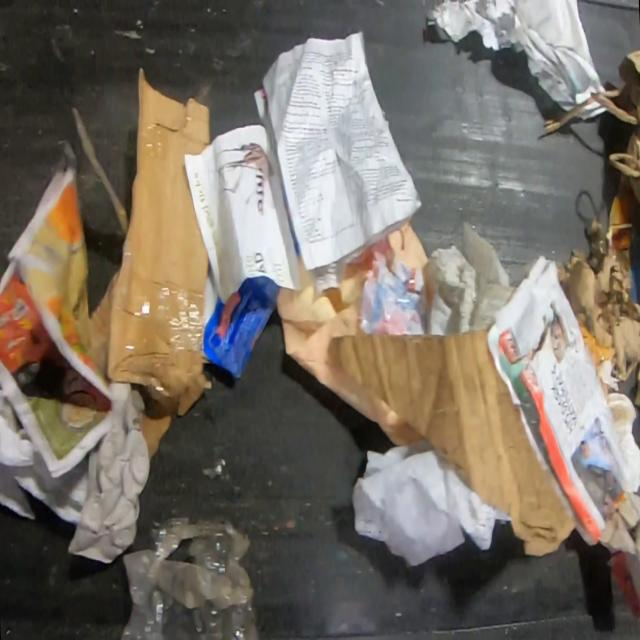cardboard: (331, 321, 580, 559), (87, 65, 214, 460), (556, 212, 640, 408), (203, 266, 281, 380)
soft_plastic: (117, 515, 260, 640), (357, 236, 433, 334)
